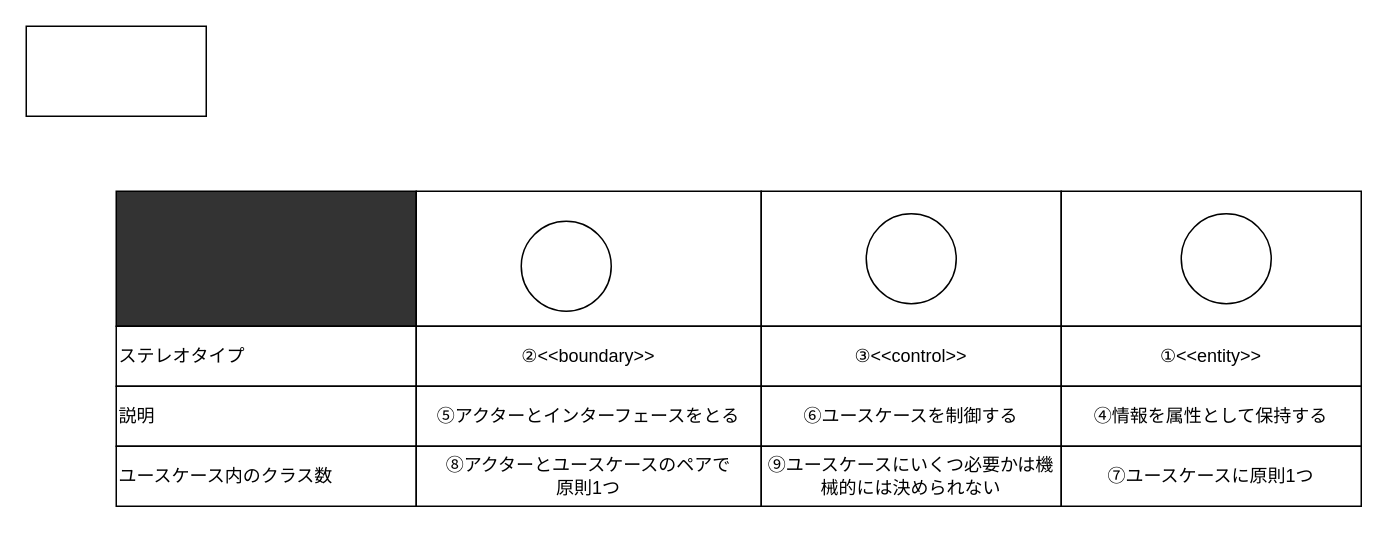
This 1388x533 diagram has some shape labels left out. Here are the shapes that lost their labels. From the top down, the centre of each, then its label:
[115,70]: lesson12-1
[265,258]: アイコン
